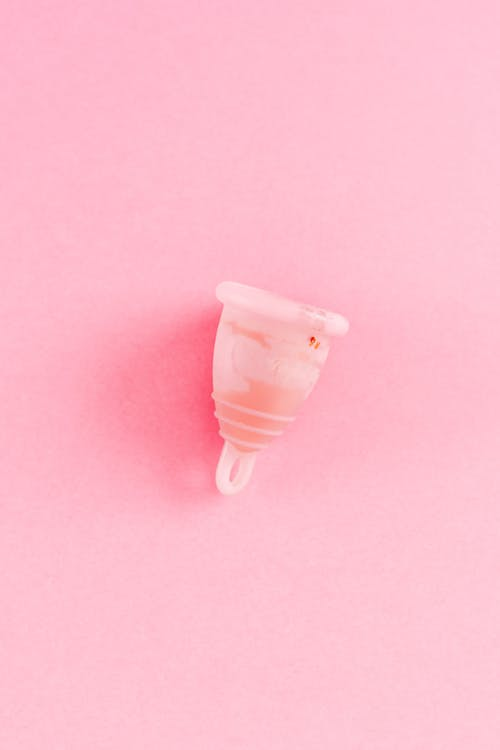blood: (305, 318, 331, 357)
